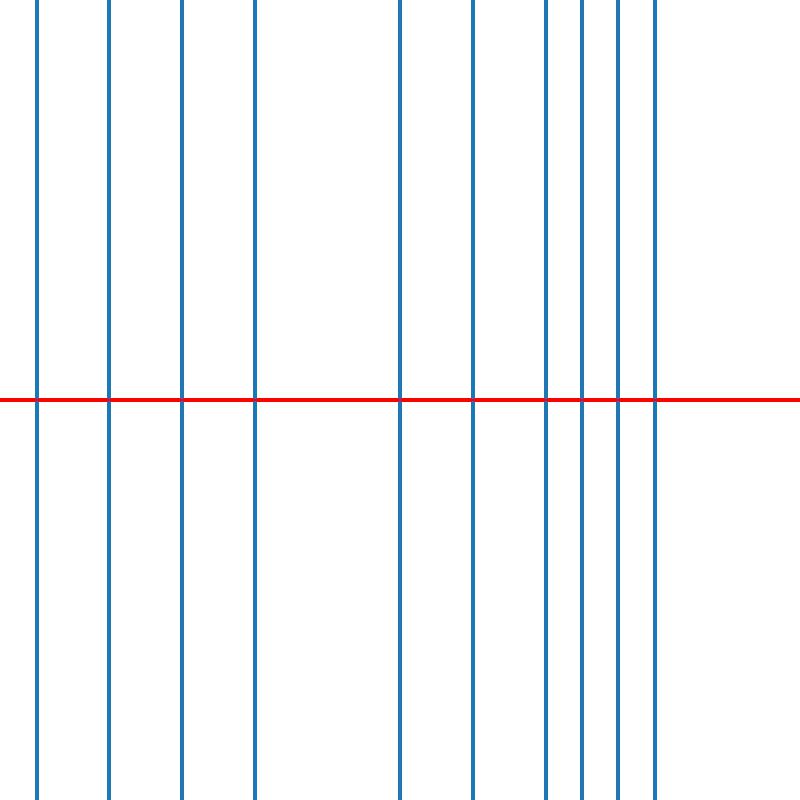root: (32, 396, 40, 404), (541, 396, 549, 404), (650, 396, 658, 404), (250, 396, 258, 404), (178, 396, 185, 404), (578, 396, 585, 404), (396, 396, 403, 404), (614, 396, 621, 404), (105, 396, 112, 404), (469, 396, 476, 404)
